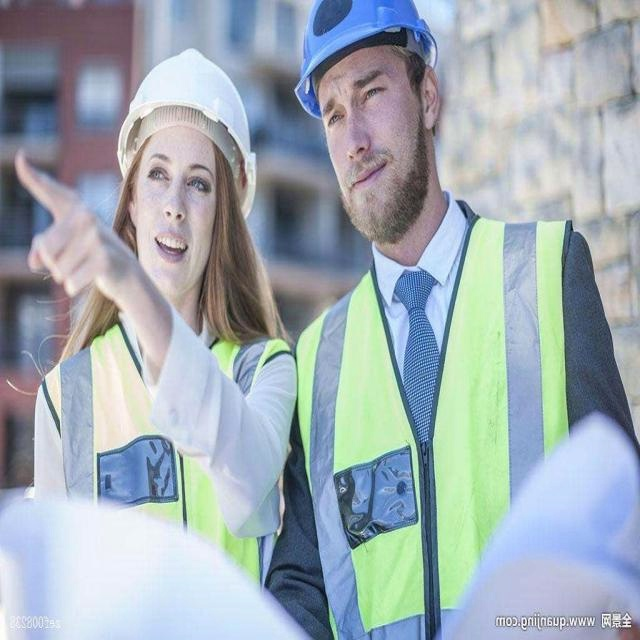Con_Casco: (113, 57, 256, 267)
Con_Chaleco: (299, 205, 593, 628)
